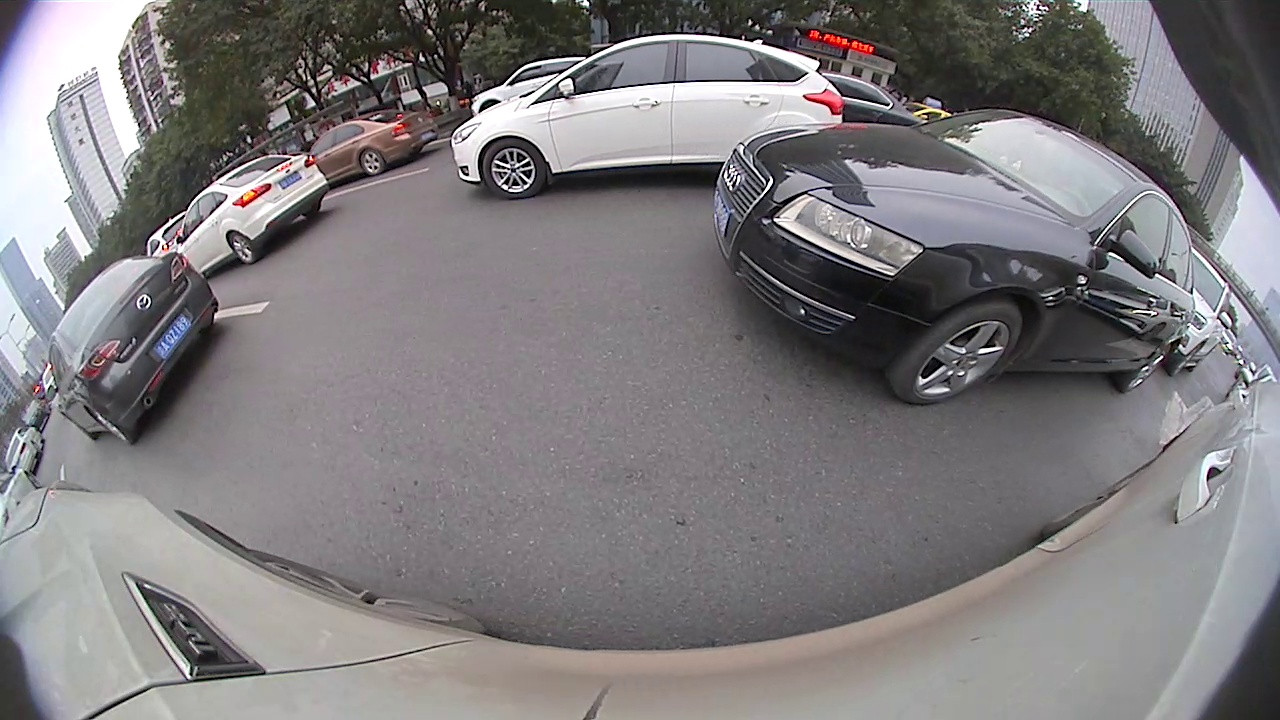car: (711, 108, 1198, 407), (450, 30, 850, 200), (46, 253, 222, 448), (169, 154, 331, 278), (1165, 236, 1233, 377), (303, 110, 436, 179), (4, 426, 47, 476)
front: (893, 304, 1024, 407), (484, 141, 543, 199)
rear: (1121, 349, 1169, 395), (91, 407, 134, 446), (228, 233, 259, 266), (359, 150, 386, 175)
